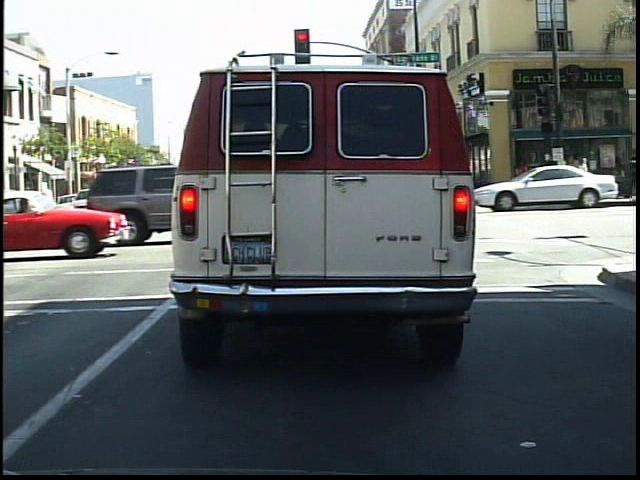person: (539, 151, 562, 208), (513, 156, 534, 203)
